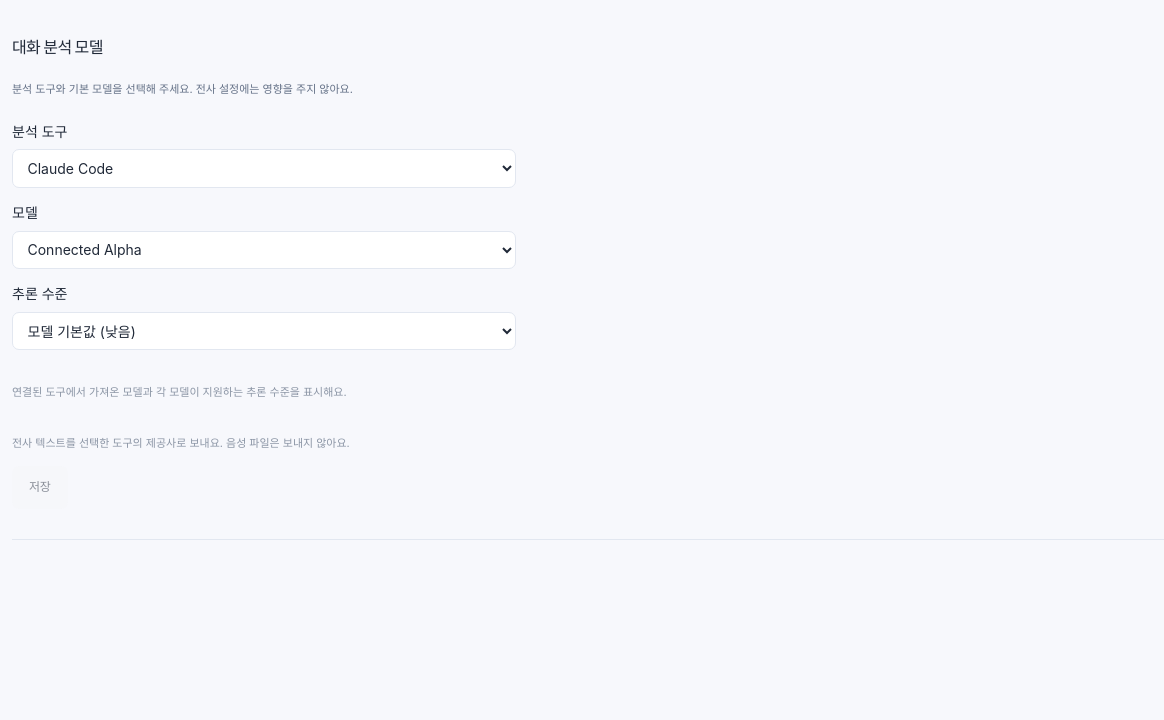
keeps settings after failed save and lets the user retry
Select "높음" in the dropdown labelled "추론 수준" at (264,331), box [12,312,516,350]
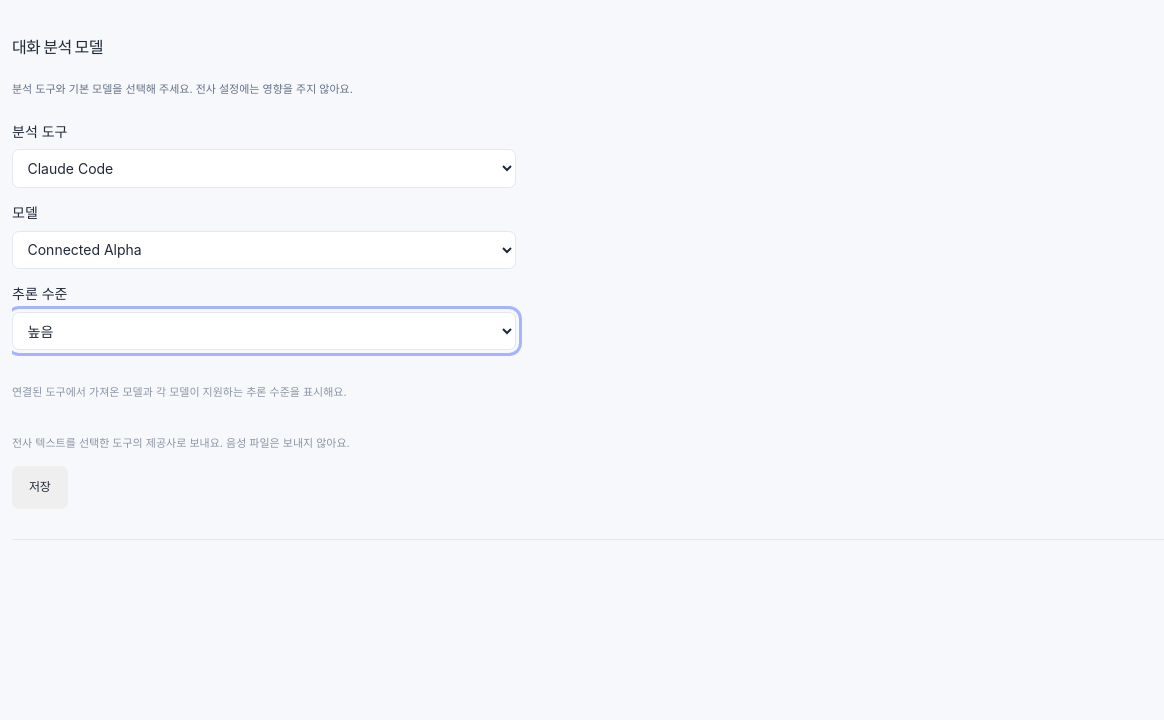
Click the button "저장" at (40,488), box [12,466,68,509]
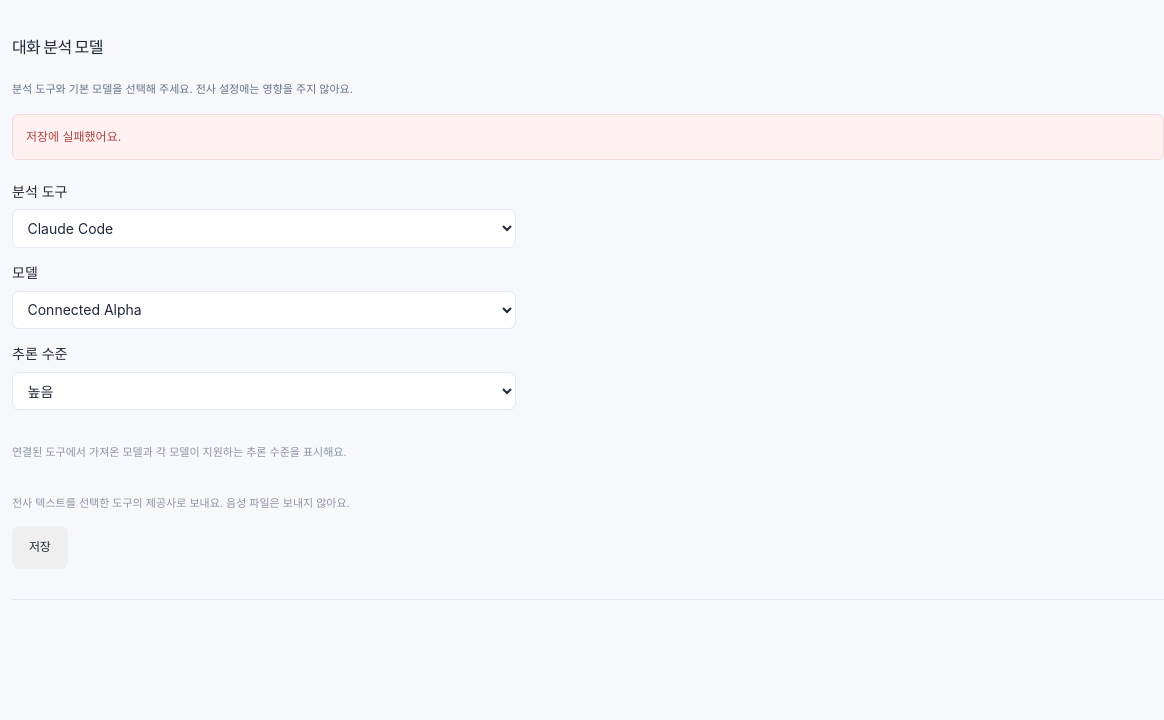
Expected: the dropdown labelled "모델" shows "Connected Alpha", [12,291,516,329]
Now the button "저장" is enabled, box [12,526,68,569]
Now the message shows "저장에 실패", box [26,129,121,144]
